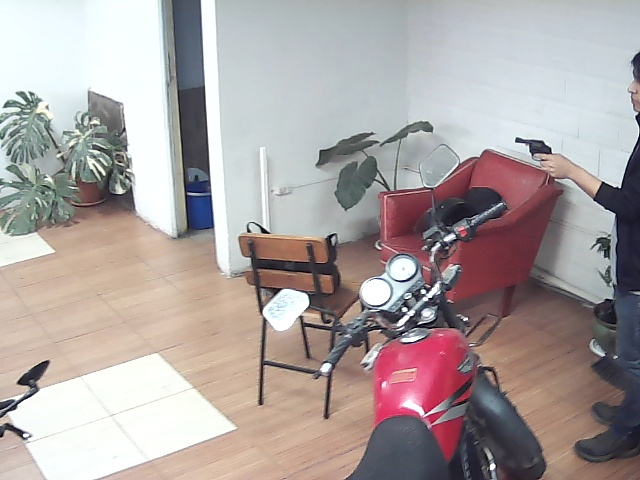pistola: (505, 129, 573, 185)
